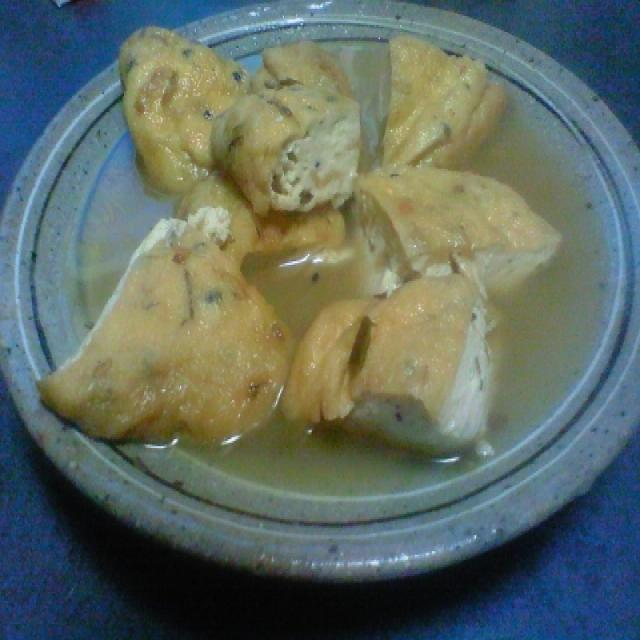熟制海鲜: (0, 27, 568, 501)
